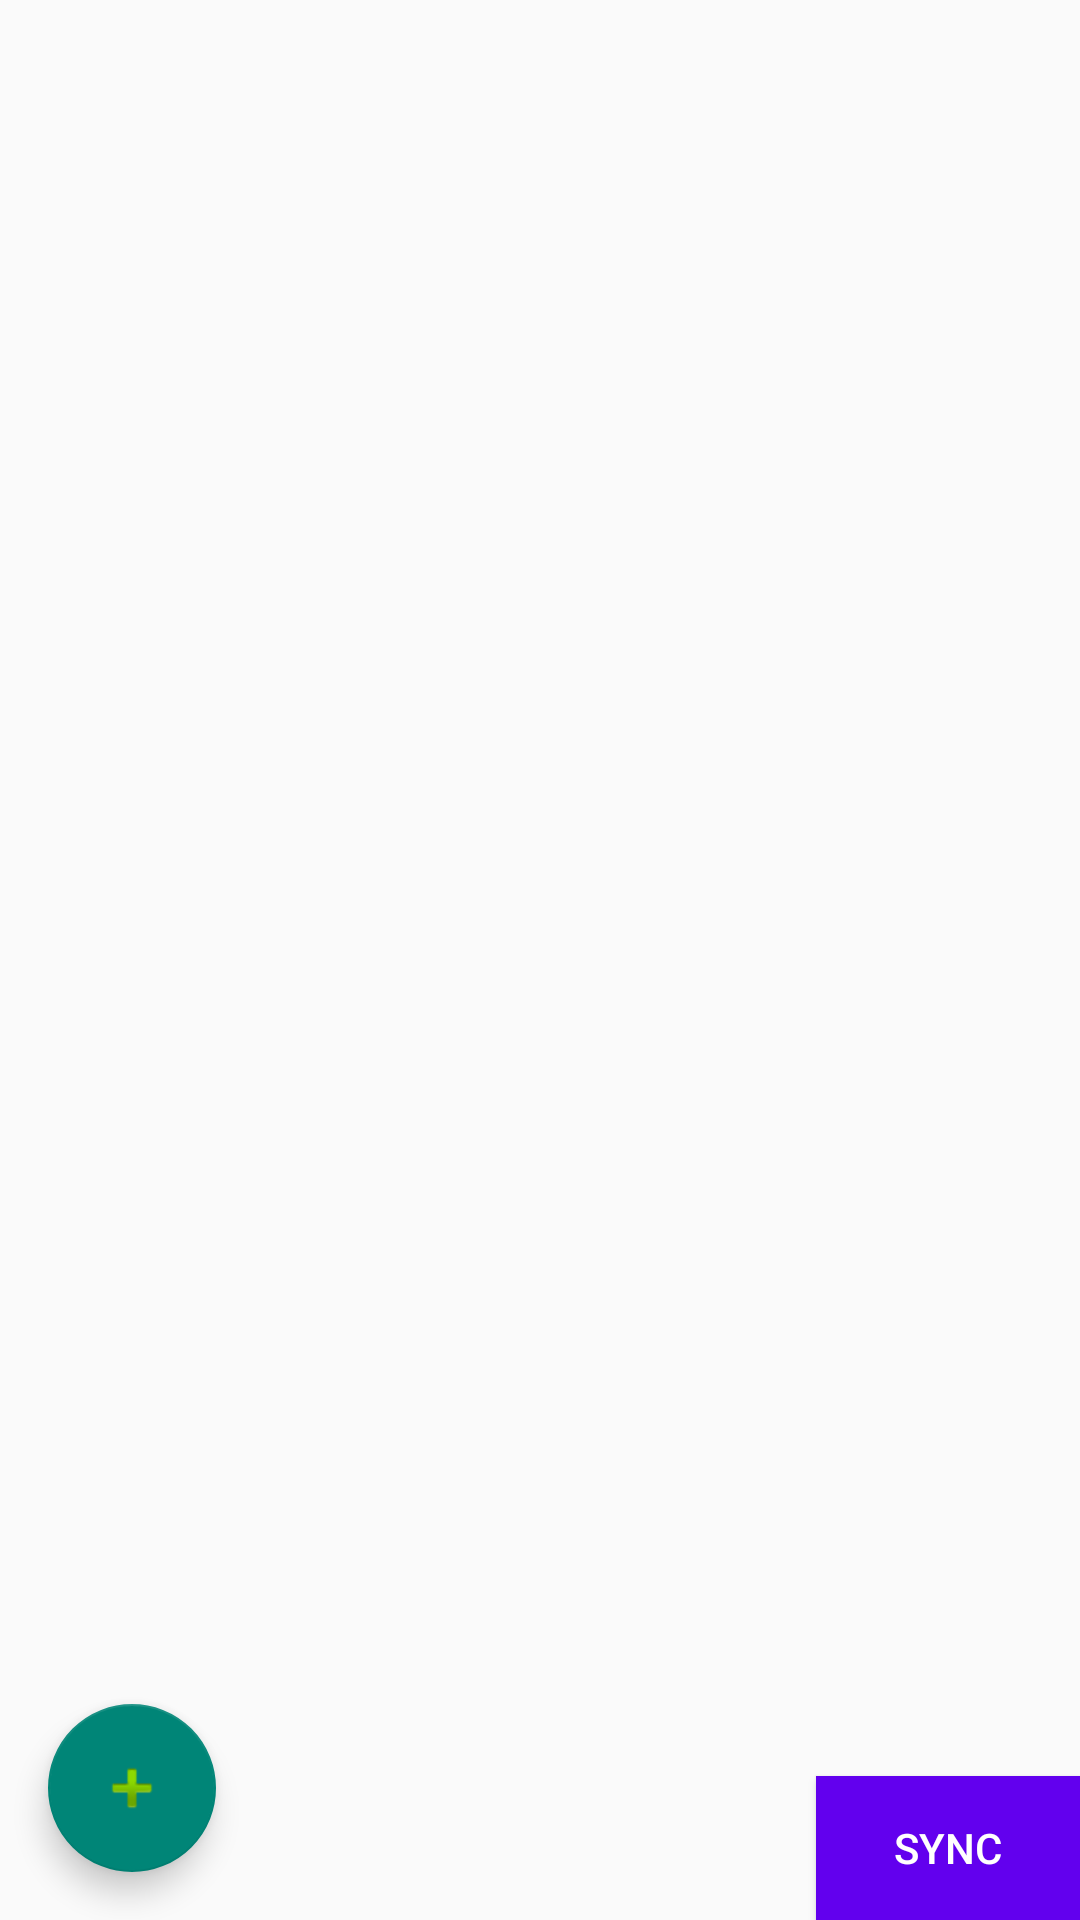

Where icons sit on this 1080px x 1920px app screen, as (x1, y1, x2, y2):
add: (48, 1704, 216, 1872)
